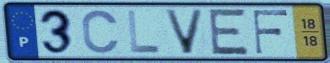3: (38, 7, 79, 57)
C: (80, 8, 122, 56)
E: (208, 8, 251, 57)
F: (251, 9, 290, 56)
L: (126, 9, 163, 55)
V: (162, 8, 207, 56)
